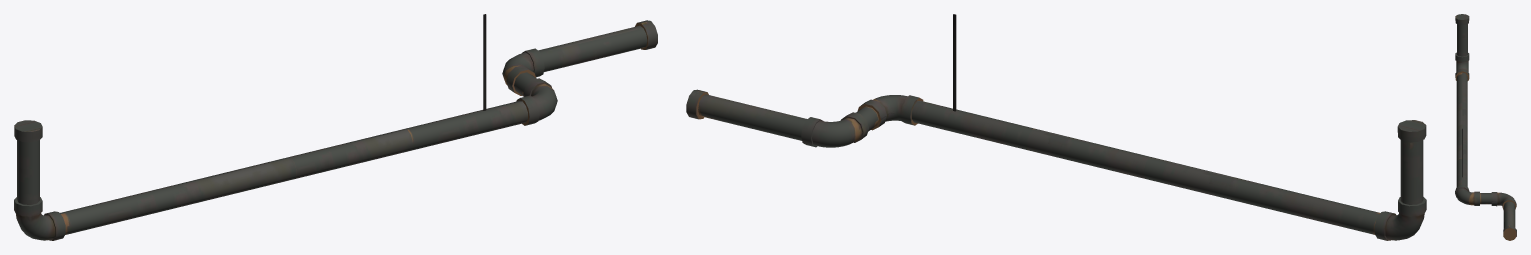
3 renders of one model, left to right at view 1: azimuth 30°, elevation 25°; view 2: azimuth 150°, elevation 25°; view 3: azimuth 270°, elevation 25°, orthographic. The views are drawn at different scales.
Visible parts, largest first — view 1: body0_model0_lod0_mesh0; view 2: body0_model0_lod0_mesh0; view 3: body0_model0_lod0_mesh0.
Boxes of the visible parts, x1,y1,x2,y2 form: body0_model0_lod0_mesh0: (14,14,657,240); body0_model0_lod0_mesh0: (686,14,1426,240); body0_model0_lod0_mesh0: (1455,14,1516,240).
Size of the model in its own units: 137 by 22.85 by 21.38.
1 material, 1 textured.
